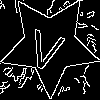V: (24, 20, 68, 74)
